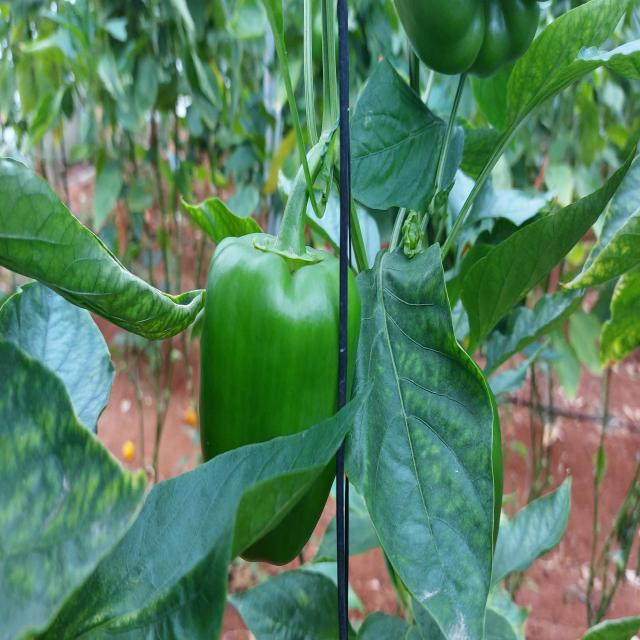Green--Not-ready-to-harvest: (212, 232, 362, 570), (394, 1, 542, 78)
